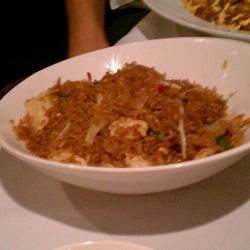rice: (25, 60, 250, 176)
